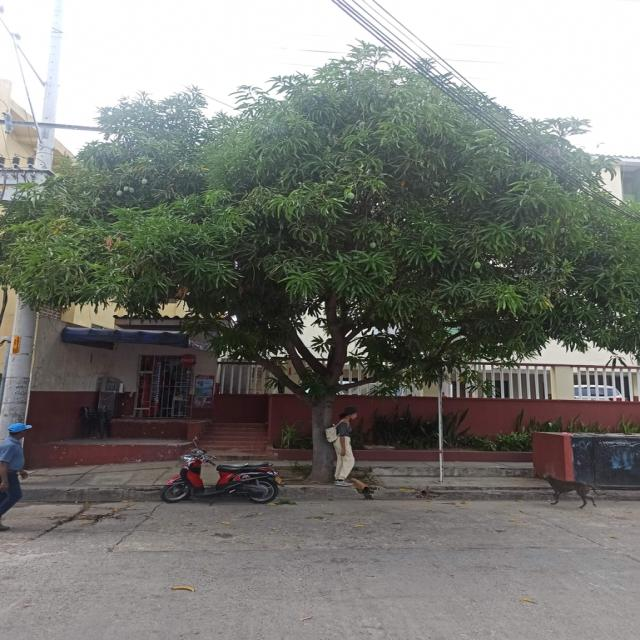Mango-Tree: (62, 78, 592, 483)
